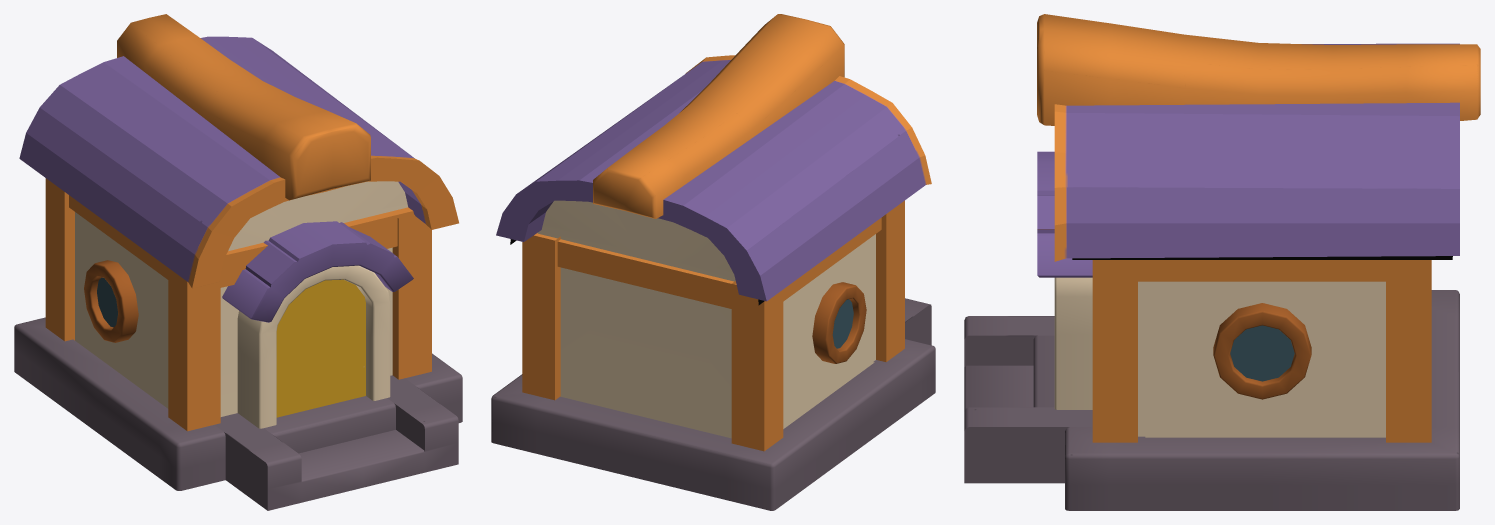
Rendered from Casa.fbx.
The picture shows the model from 3 angles, left to right: view 1: azimuth 30°, elevation 25°; view 2: azimuth 150°, elevation 25°; view 3: azimuth 270°, elevation 25°; orthographic projection. The views are drawn at different scales.
Visible parts, largest first — view 1: Casa; view 2: Casa; view 3: Casa.
Boxes of the visible parts, x1,y1,x2,y2 form: Casa: (14, 14, 462, 510); Casa: (491, 14, 935, 510); Casa: (964, 14, 1480, 510).
Size of the model in its own units: 558 by 622 by 729.
